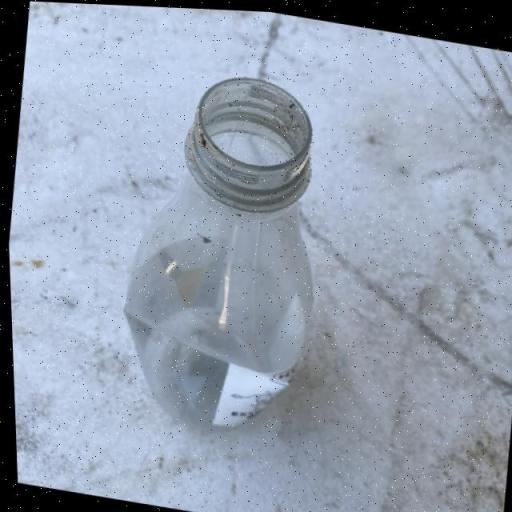plastic: (100, 56, 342, 444)
